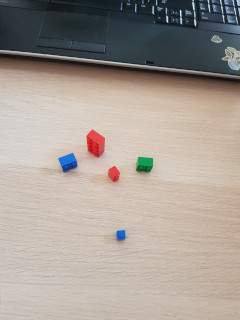1x1 blue: (115, 228, 126, 240)
1x2 red: (109, 166, 121, 183)
2x2 blue: (56, 153, 78, 171)
2x2 green: (135, 157, 154, 171)
2x4 red: (87, 129, 105, 157)
